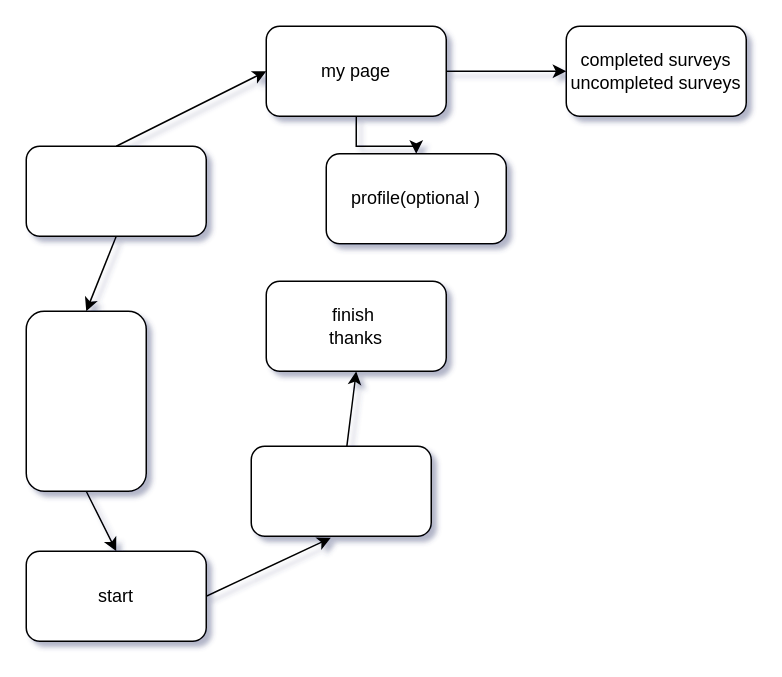
This 782x677 diagram has some shape labels left out. The shapes that lost their labels are listed below. From the top down, each one's centre as x and y in pixels, then its label:
At point 115,190: "welcome input survey ID".
At point 85,400: "surveying (introduction and overview)".
At point 340,490: "question".
